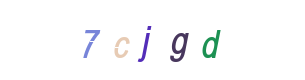7: (85, 0, 165, 80)
C: (103, 0, 183, 80)
D: (171, 0, 251, 80)
G: (129, 0, 209, 80)
J: (112, 0, 192, 80)
